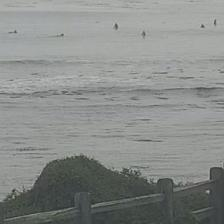surfer: (9, 30, 18, 34), (55, 33, 64, 37), (114, 22, 119, 29), (141, 30, 146, 36), (201, 24, 205, 28), (214, 19, 217, 24)
